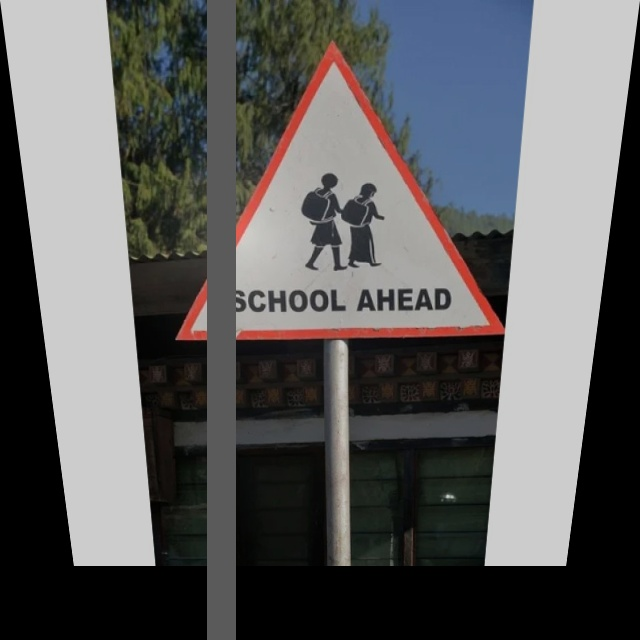School_Ahead: (169, 53, 508, 349)
